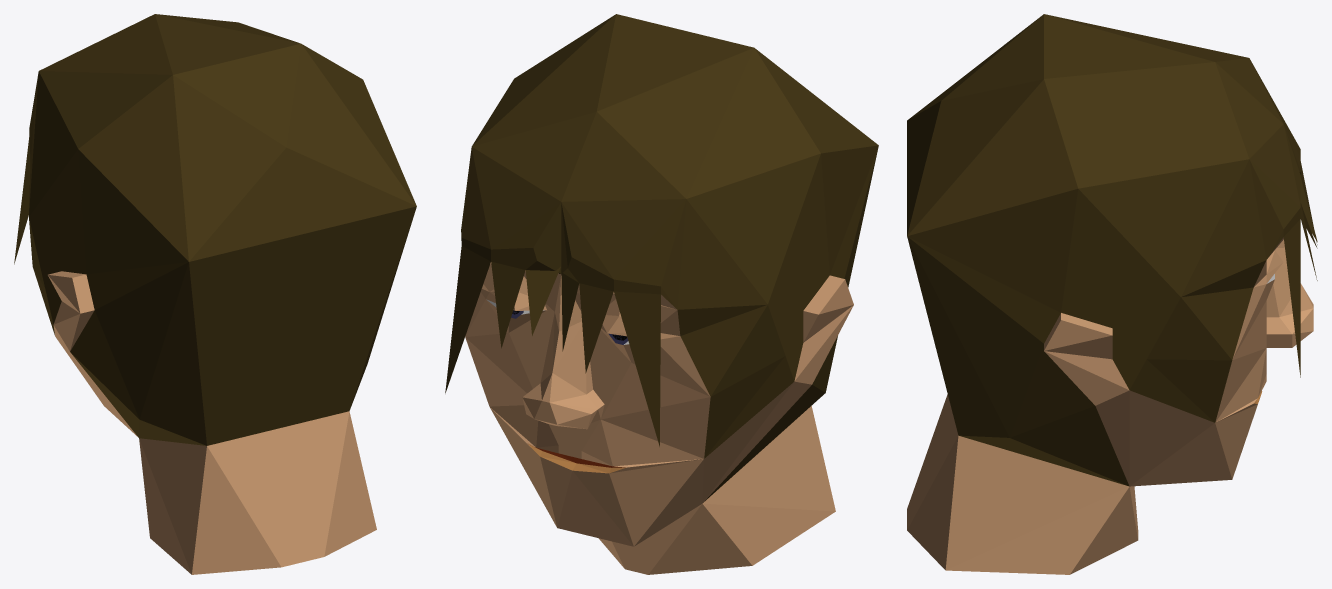
Rendered from npc_chat_wydin_0.obj.
3 views of the same model, side by side, from view 1: azimuth 30°, elevation 25°; view 2: azimuth 150°, elevation 25°; view 3: azimuth 270°, elevation 25° (orthographic). The views are drawn at different scales.
Size of the model in its own units: 0.6875 by 0.9844 by 0.75.
